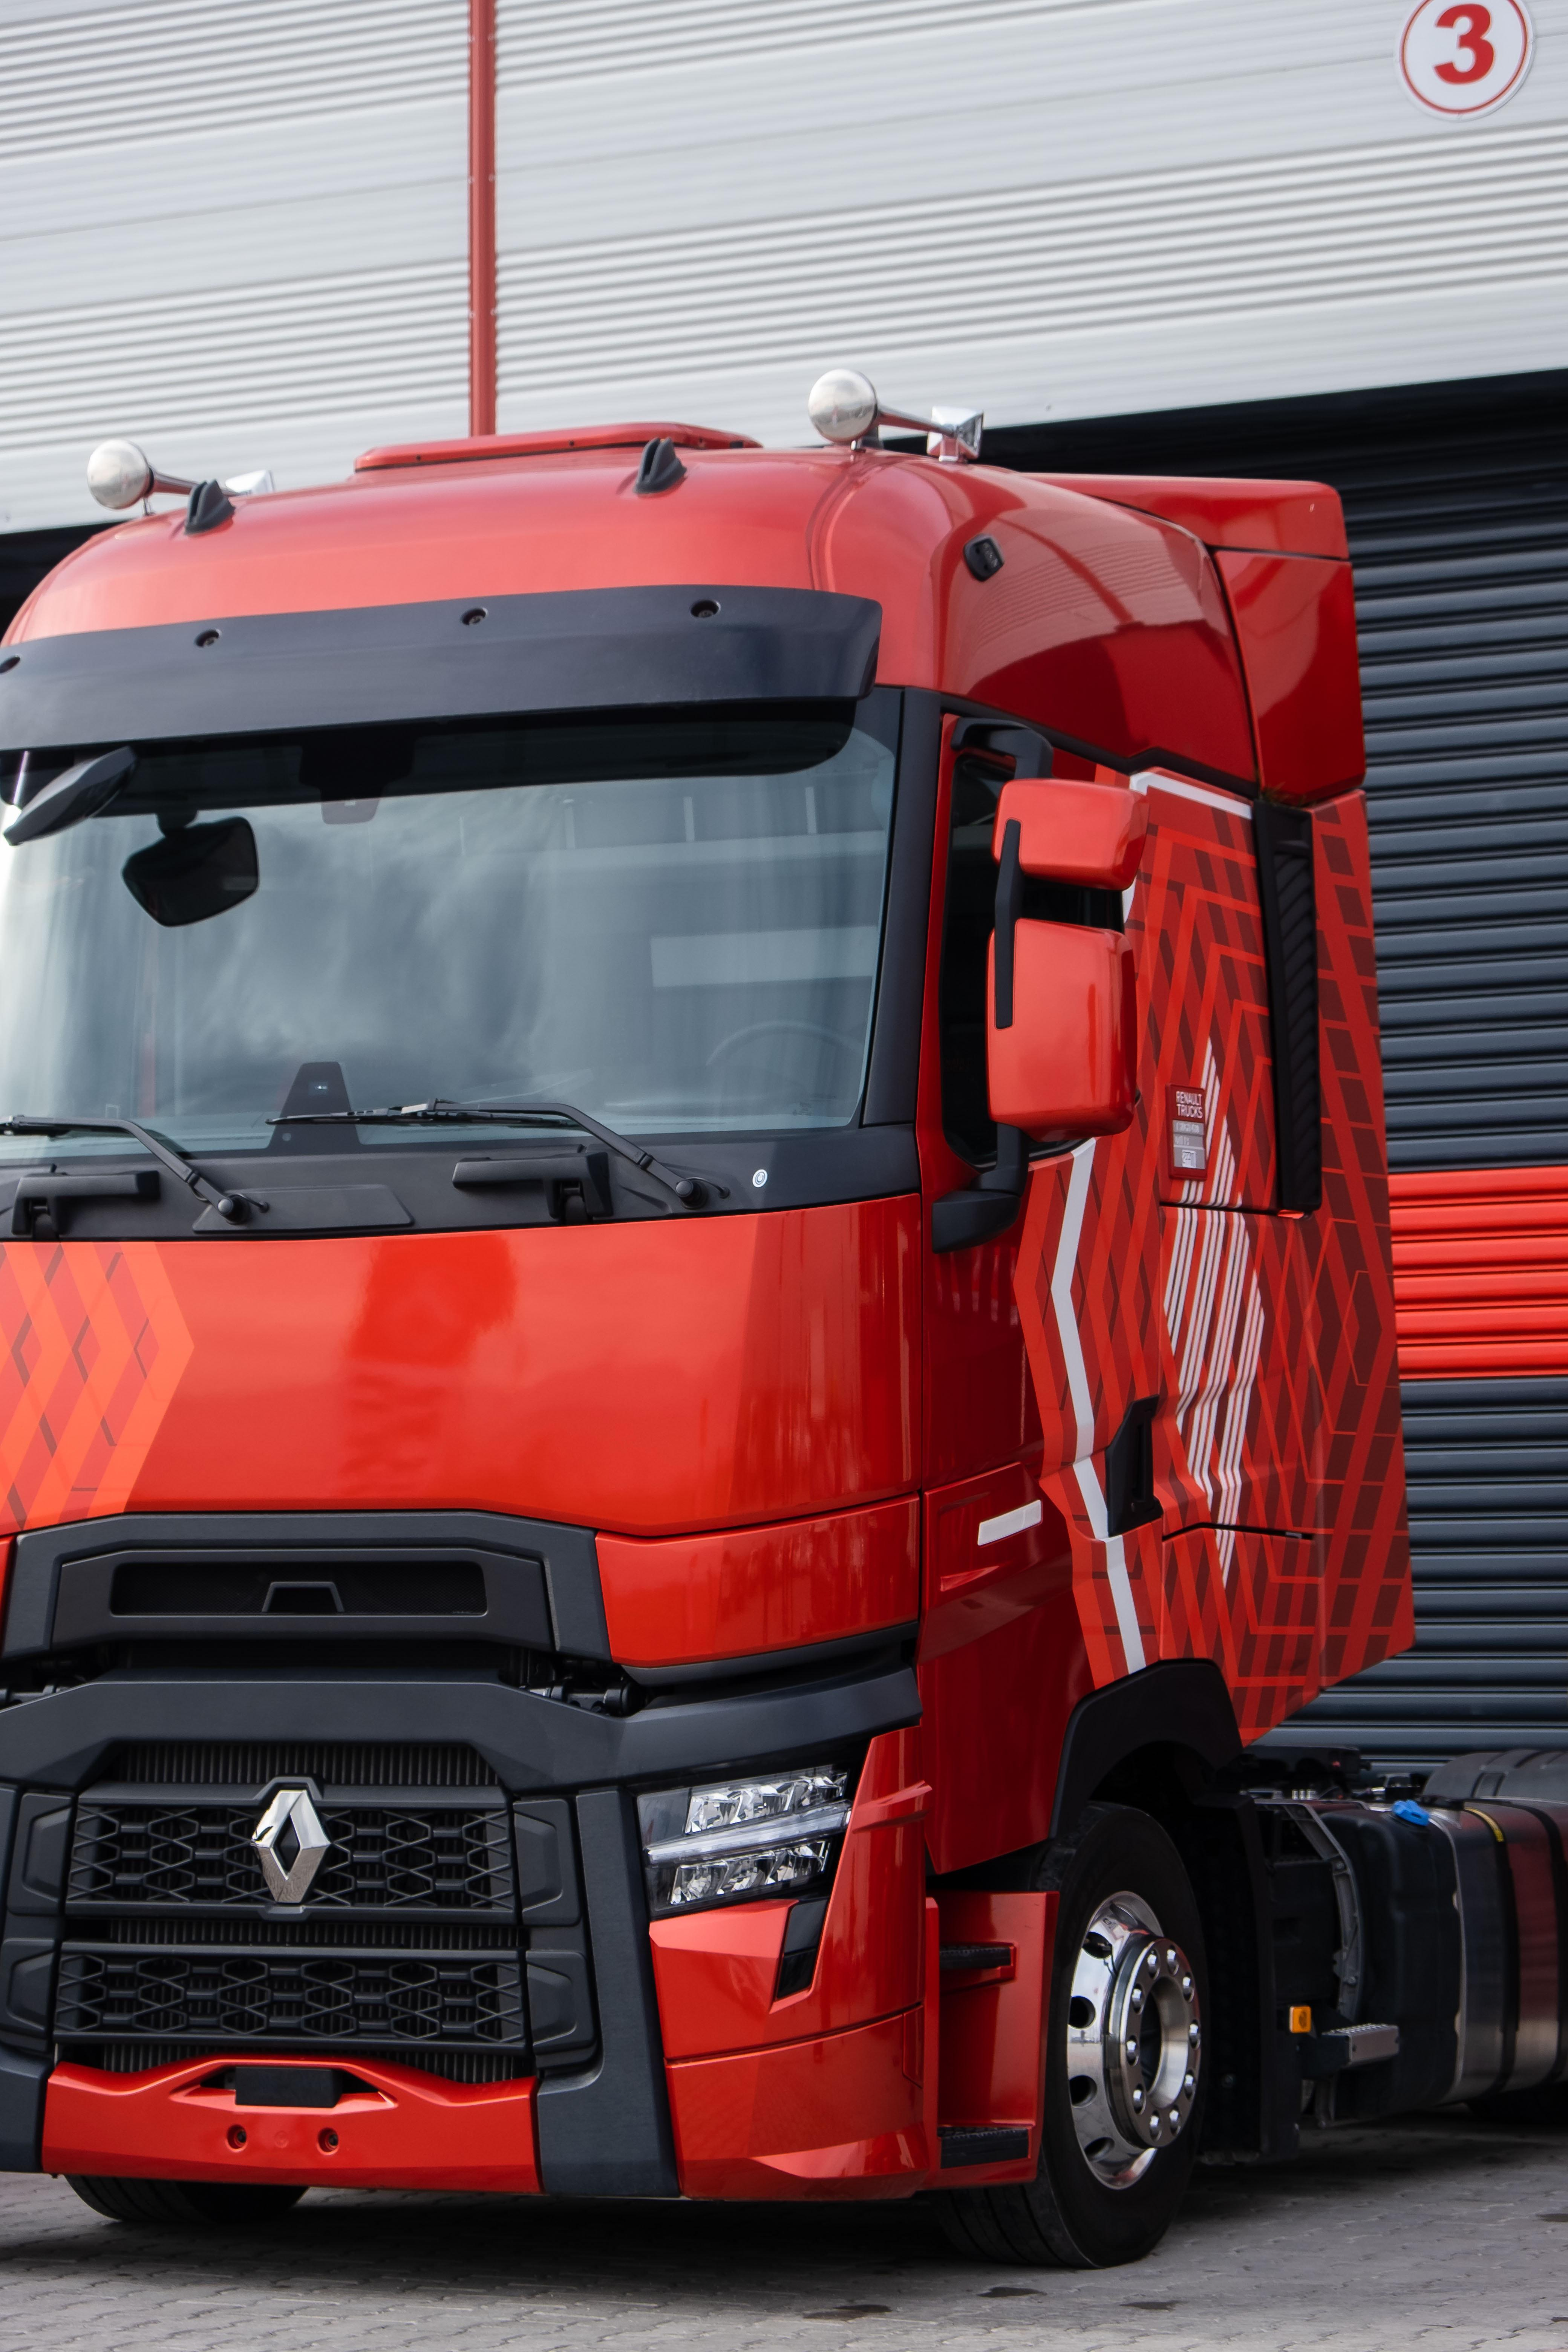Renault: (213, 1747, 366, 1937)
